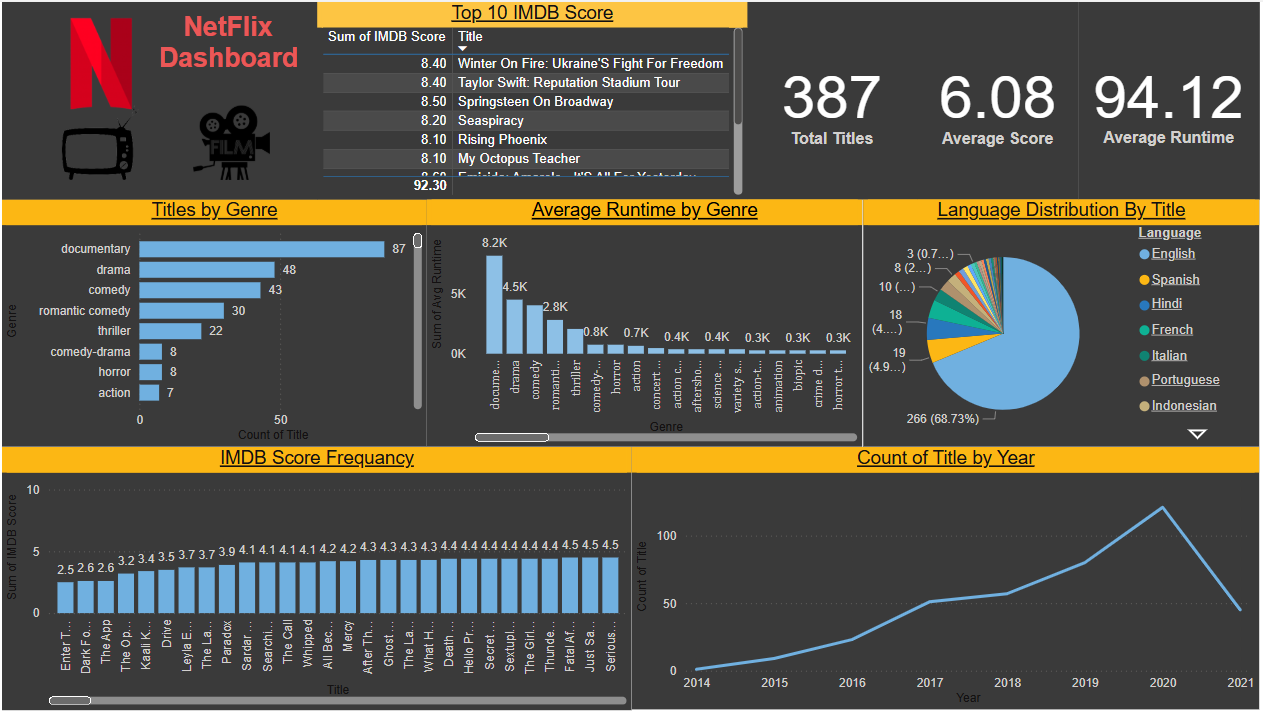

The page's visual inventory and layout, read from the dashboard file:
{"tool":"powerbi","page":{"name":"Page 1","canvas":[1280,720],"ordinal":0},"visuals":[{"type":"card","fields":{"Values":["NetflixOriginals.Title"]},"box":[755.2,0,170.1,197.9],"z":0},{"type":"card","fields":{"Values":["NetflixOriginals.IMDB Score"]},"box":[925.3,0,161.7,197.9],"z":1000},{"type":"card","fields":{"Values":["NetflixOriginals.Runtime"]},"box":[1086.2,0,181.2,197.5],"z":2000},{"type":"barChart","title":"Titles by Genre","fields":{"Y":["NetflixOriginals.Title"],"Category":["NetflixOriginals.Genre"]},"box":[10,197.5,425,247.5],"z":3000},{"type":"lineChart","fields":{"Category":["NetflixOriginals.Year"],"Y":["NetflixOriginals.Title"]},"box":[640,445,627.5,262.5],"z":4000},{"type":"tableEx","title":"Top 10 IMDB Score","fields":{"Values":["NetflixOriginals.IMDB Score","NetflixOriginals.Title"]},"box":[324.5,0,430.7,197.9],"z":5000},{"type":"pieChart","title":"Language Distribution By Title","fields":{"Category":["NetflixOriginals.Language"],"Y":["NetflixOriginals.Title"]},"box":[871.2,197.5,396.2,247.5],"z":6000},{"type":"clusteredColumnChart","title":"IMDB Score Frequancy","fields":{"Y":["NetflixOriginals.IMDB Score"],"Category":["NetflixOriginals.Title"]},"box":[9.8,445.1,629.8,262.9],"z":7000},{"type":"columnChart","title":" Average Runtime by Genre","fields":{"Y":["NetflixOriginals.Avg Runtime"],"Category":["NetflixOriginals.Genre"]},"box":[435.3,198.1,435.3,247],"z":8000},{"type":"textbox","box":[9.7,0,314.9,197.9],"z":9000},{"type":"image","box":[49.5,9.7,118.2,103.8],"z":10000},{"type":"image","box":[38.6,98.9,138.7,84.5],"z":11000},{"type":"image","box":[167.7,98.9,143.6,84.5],"z":12000}]}

Visuals, with their boxes in screenshot pixels (x1, y1, x2, y2), scaled from the page's 1280x720 canvas onto the 1263x712 screenshot:
card - NetflixOriginals.Title: region(745, 0, 913, 196)
card - NetflixOriginals.IMDB Score: region(913, 0, 1073, 196)
card - NetflixOriginals.Runtime: region(1072, 0, 1251, 195)
"Titles by Genre" barChart: region(10, 195, 429, 440)
lineChart - NetflixOriginals.Year x NetflixOriginals.Title: region(632, 440, 1251, 700)
"Top 10 IMDB Score" tableEx: region(320, 0, 745, 196)
"Language Distribution By Title" pieChart: region(860, 195, 1251, 440)
"IMDB Score Frequancy" clusteredColumnChart: region(10, 440, 631, 700)
" Average Runtime by Genre" columnChart: region(430, 196, 859, 440)
textbox: region(10, 0, 320, 196)
image: region(49, 10, 165, 112)
image: region(38, 98, 175, 181)
image: region(165, 98, 307, 181)
